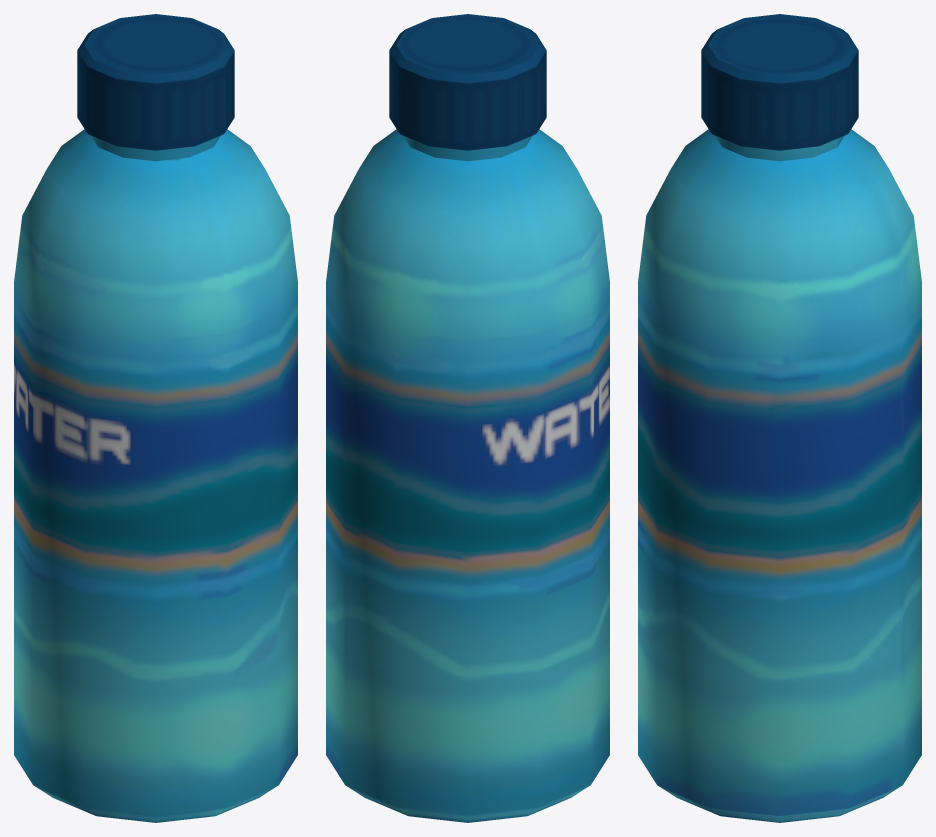
Rendered from hypercasual_prop006.FBX.
3 views of the same model, side by side, from view 1: azimuth 30°, elevation 25°; view 2: azimuth 150°, elevation 25°; view 3: azimuth 270°, elevation 25° (orthographic).
Parts seen in each view (by area): view 1: hypercasual_prop006; view 2: hypercasual_prop006; view 3: hypercasual_prop006.
Boxes of the visible parts, x1,y1,x2,y2 form: hypercasual_prop006: [14, 14, 297, 822]; hypercasual_prop006: [326, 14, 609, 822]; hypercasual_prop006: [638, 14, 921, 822].
Size of the model in its own units: 0.6988 by 1.98 by 0.6988.
1 material, 1 textured.
